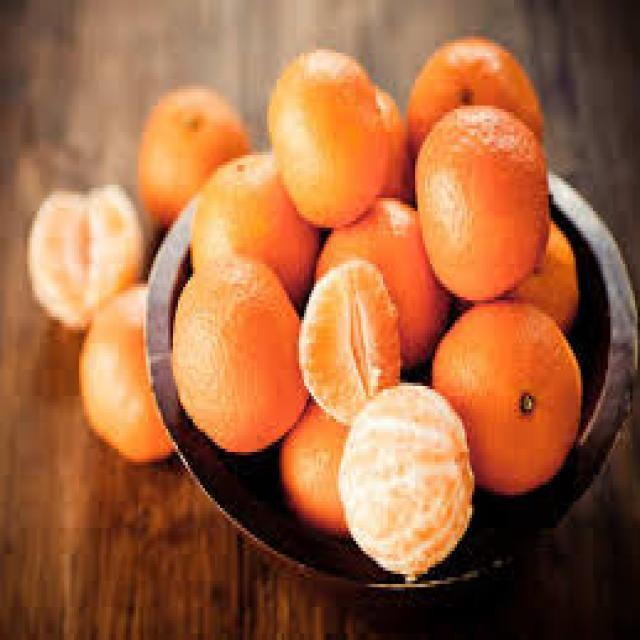Orange: (430, 297, 583, 495), (170, 251, 309, 452), (412, 102, 548, 300), (340, 387, 476, 573), (314, 195, 450, 366), (264, 46, 390, 228), (188, 148, 319, 307), (76, 280, 176, 462), (406, 33, 544, 155), (299, 260, 401, 424), (24, 185, 143, 322), (136, 86, 250, 228), (281, 395, 354, 533), (506, 218, 578, 334)
